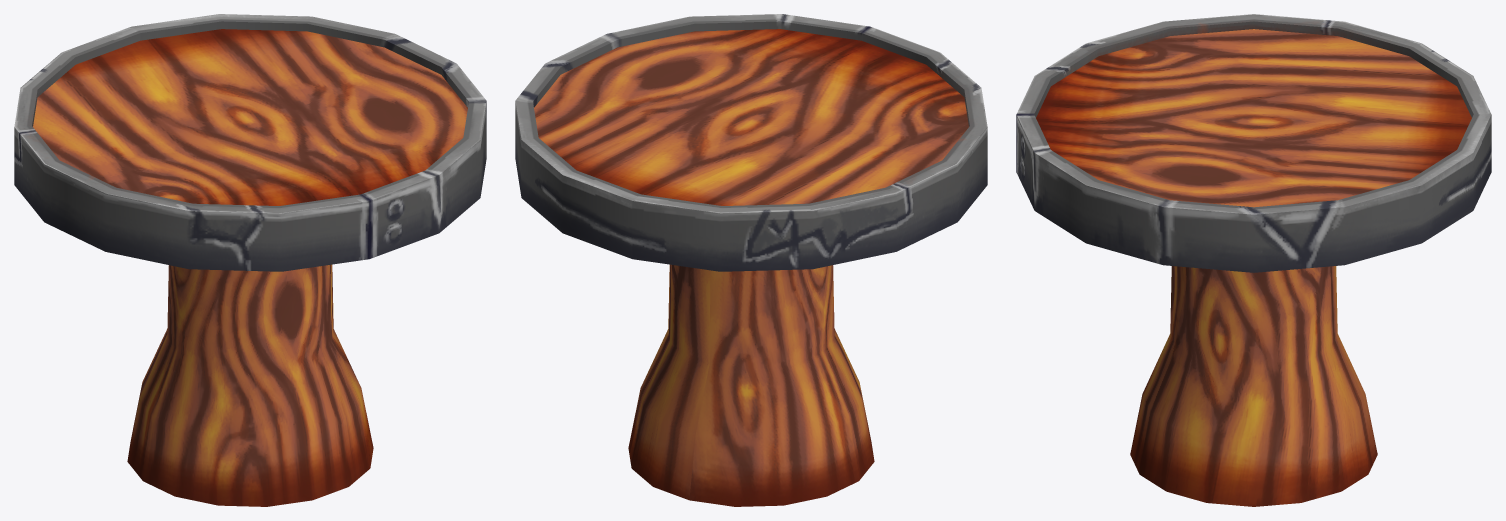
Rendered from MesaRedonda.fbx.
The picture shows the model from 3 angles, left to right: view 1: azimuth 30°, elevation 25°; view 2: azimuth 150°, elevation 25°; view 3: azimuth 270°, elevation 25°; orthographic projection.
Parts seen in each view (by area): view 1: MesaRedonda; view 2: MesaRedonda; view 3: MesaRedonda.
Part boxes in pixels (left/top/right/bottom): MesaRedonda: left=14, top=14, right=486, bottom=506; MesaRedonda: left=515, top=14, right=987, bottom=506; MesaRedonda: left=1016, top=14, right=1491, bottom=506.
Size of the model in its own units: 135 by 107 by 135.
